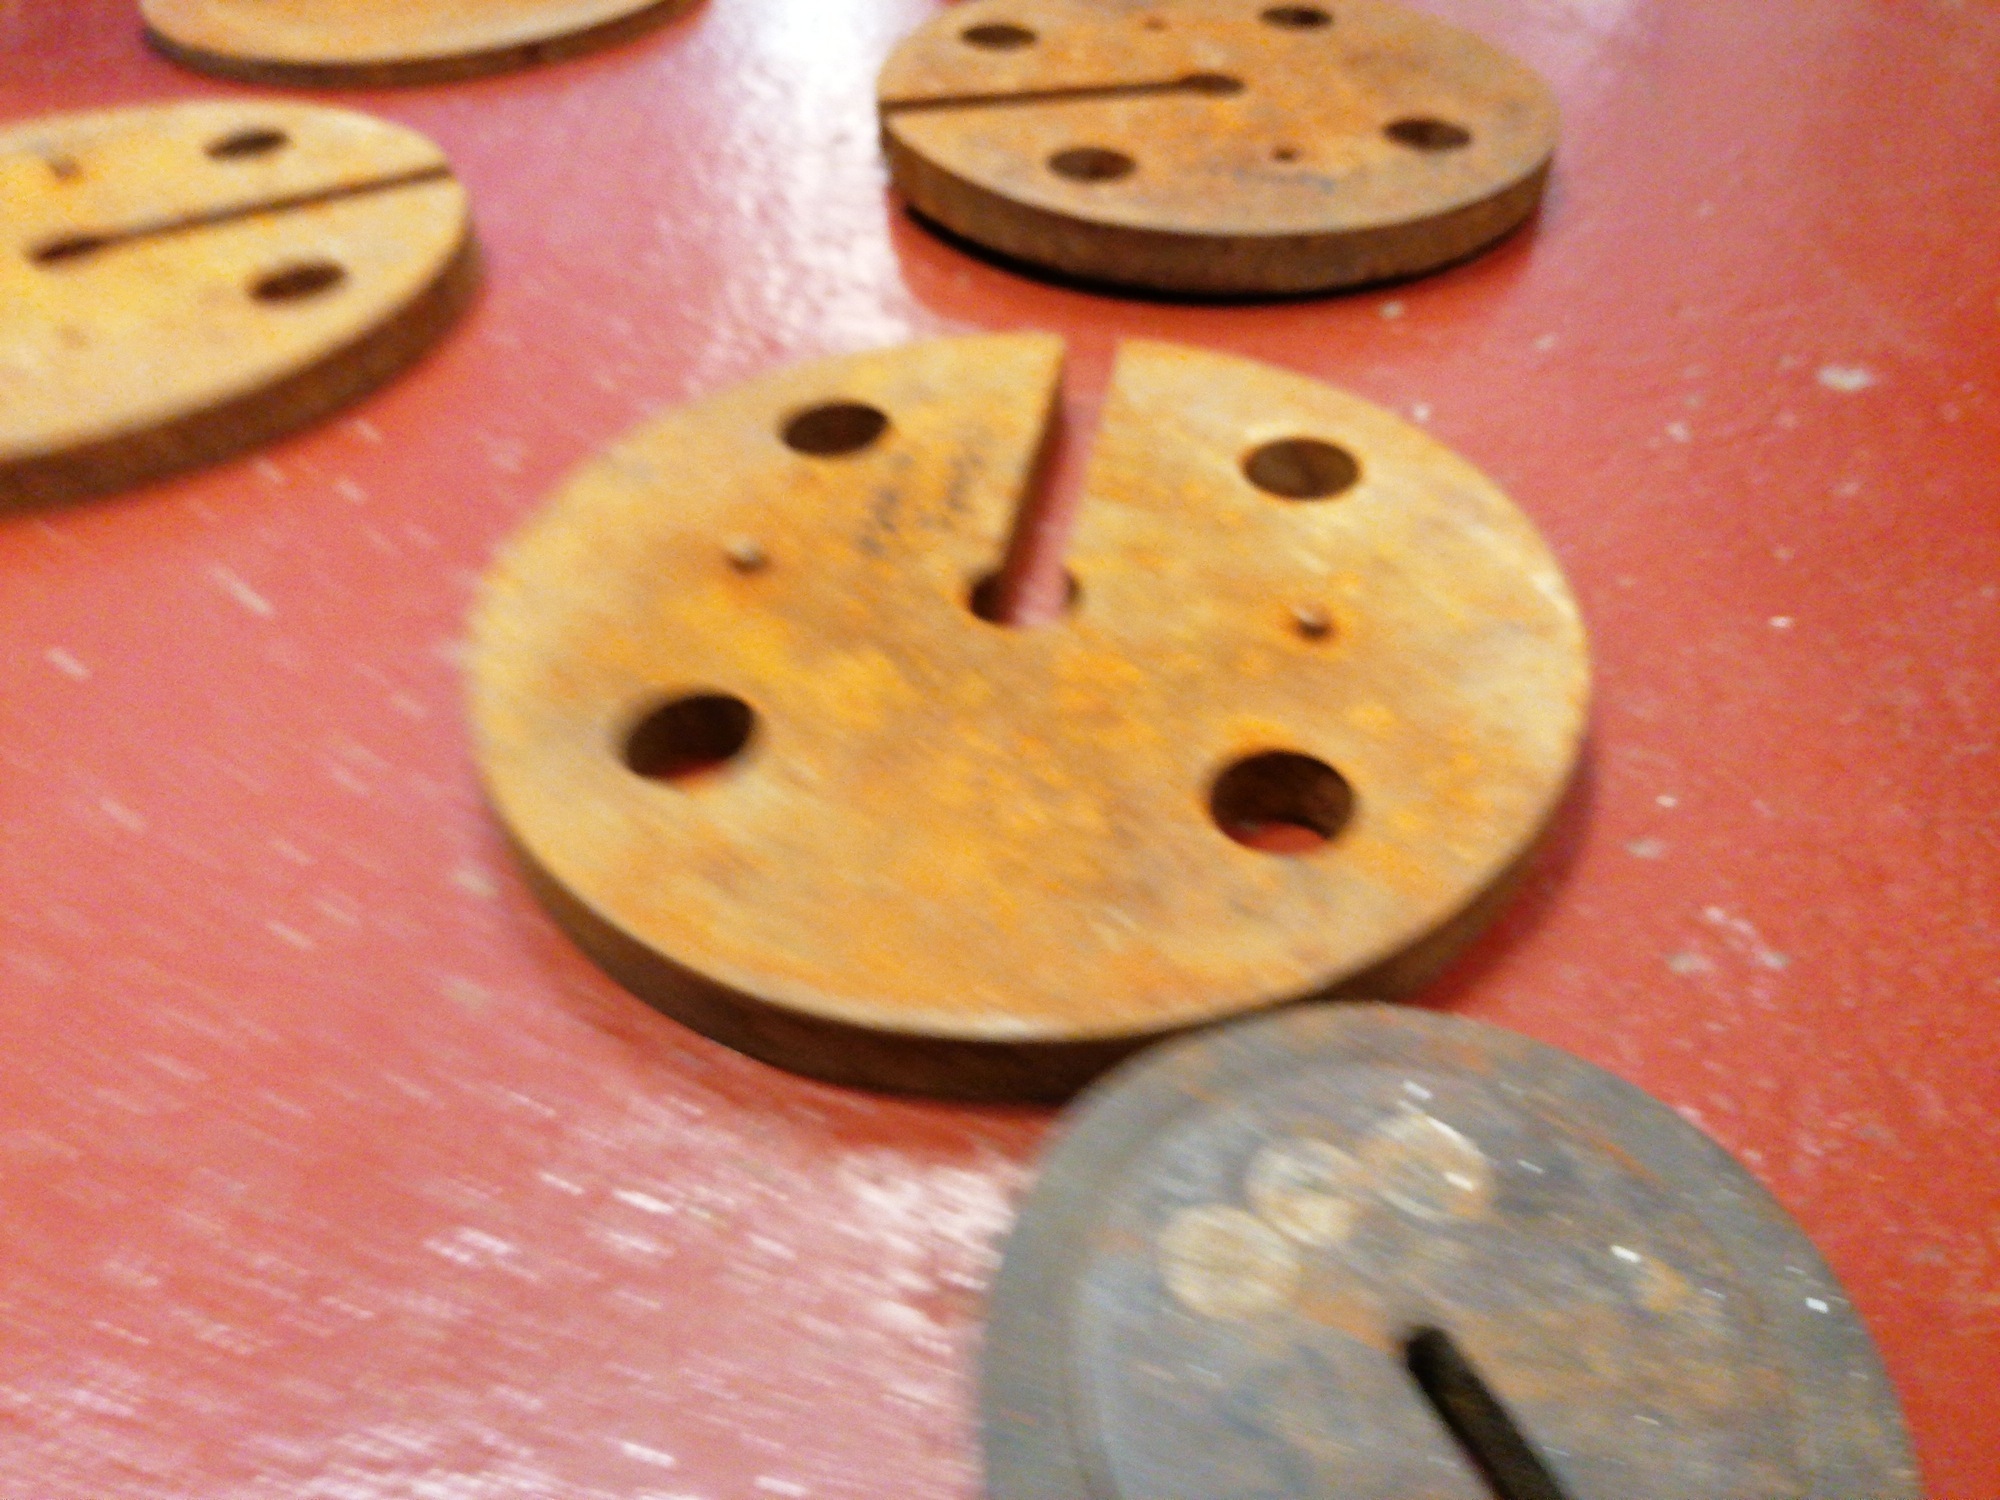flange: (461, 326, 1600, 1105), (975, 999, 1924, 1500), (872, 0, 1559, 296), (0, 91, 477, 517), (135, 0, 712, 96)
